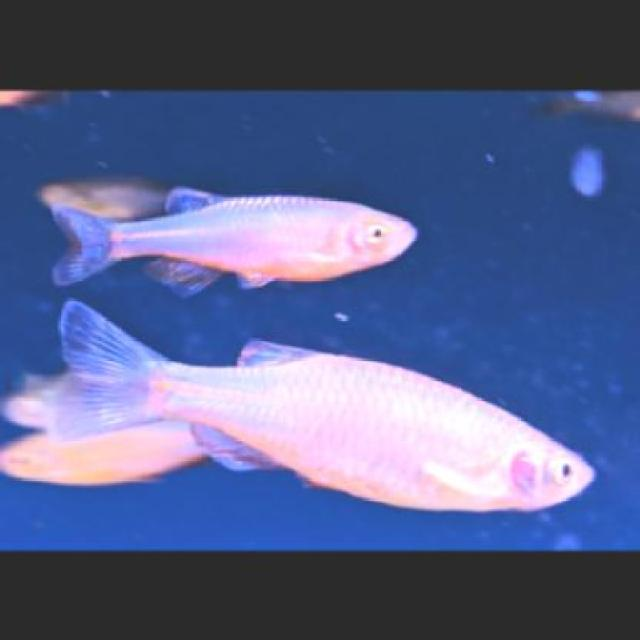ZebraFish: (51, 290, 598, 507), (38, 183, 420, 282)
